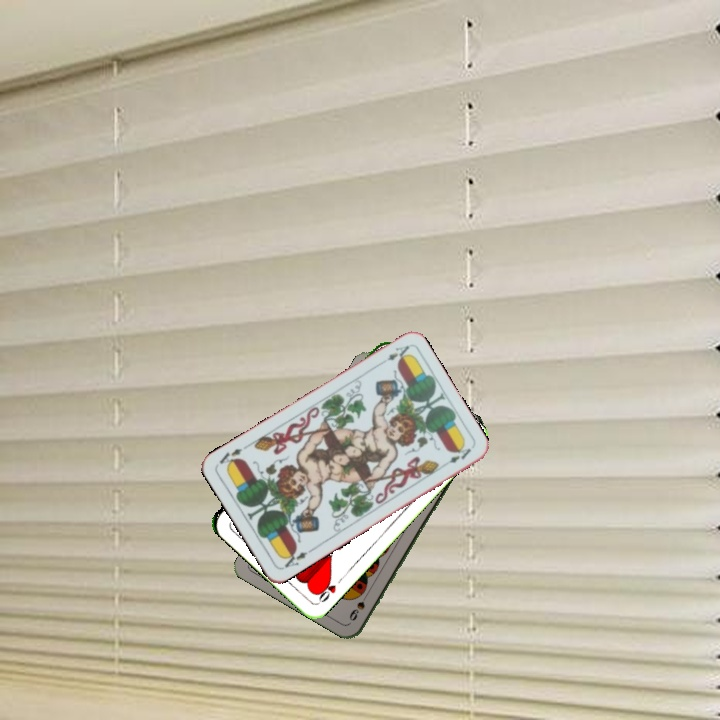EA: (279, 546, 310, 572), (383, 341, 412, 364)
HO: (312, 573, 346, 606)
S9: (345, 588, 372, 623)
